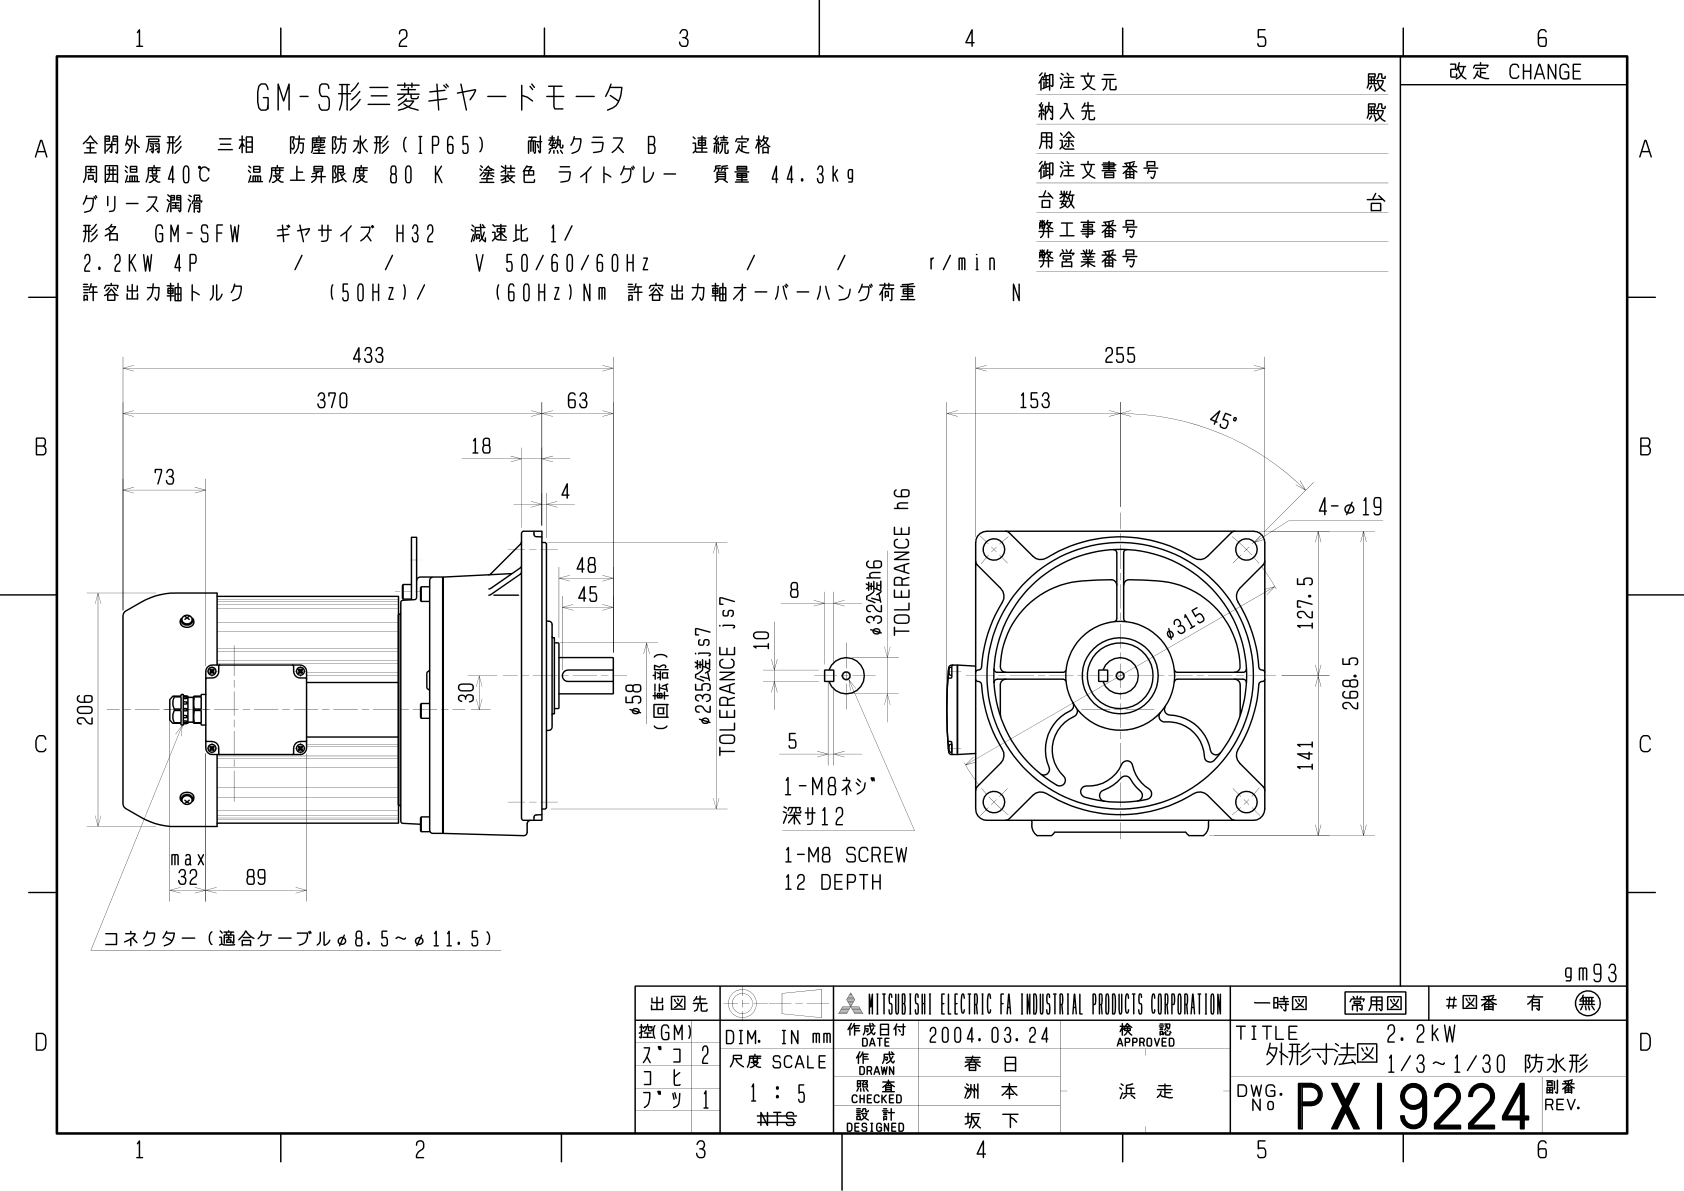GM_S_IP65＿三相_フランジ: (73, 324, 1393, 962)
